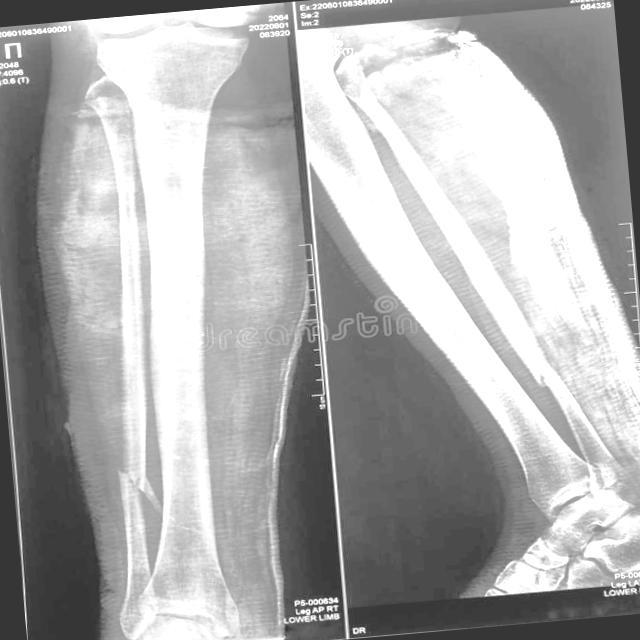Comminuted Fracture: (92, 441, 204, 521), (510, 348, 579, 407)
